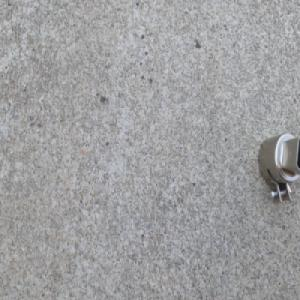MetalPart: (255, 128, 300, 208)
